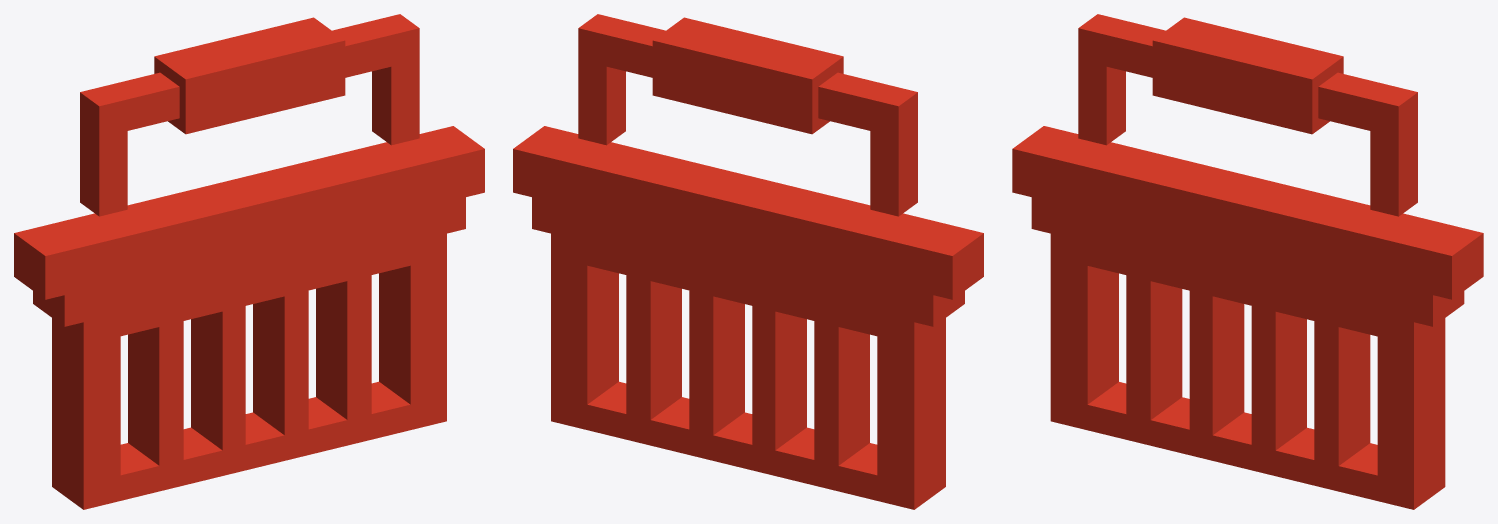
The model's file is Icon_Basket_02.fbx.
The picture shows the model from 3 angles, left to right: view 1: azimuth 30°, elevation 25°; view 2: azimuth 150°, elevation 25°; view 3: azimuth 330°, elevation 25°; orthographic projection.
Parts seen in each view (by area): view 1: Icon_Basket_02; view 2: Icon_Basket_02; view 3: Icon_Basket_02.
Boxes of the visible parts, bbox=[...] form: Icon_Basket_02: bbox=[14, 14, 484, 509]; Icon_Basket_02: bbox=[513, 14, 983, 509]; Icon_Basket_02: bbox=[1012, 14, 1483, 509].
Size of the model in its own units: 79.05 by 69.72 by 9.8.
